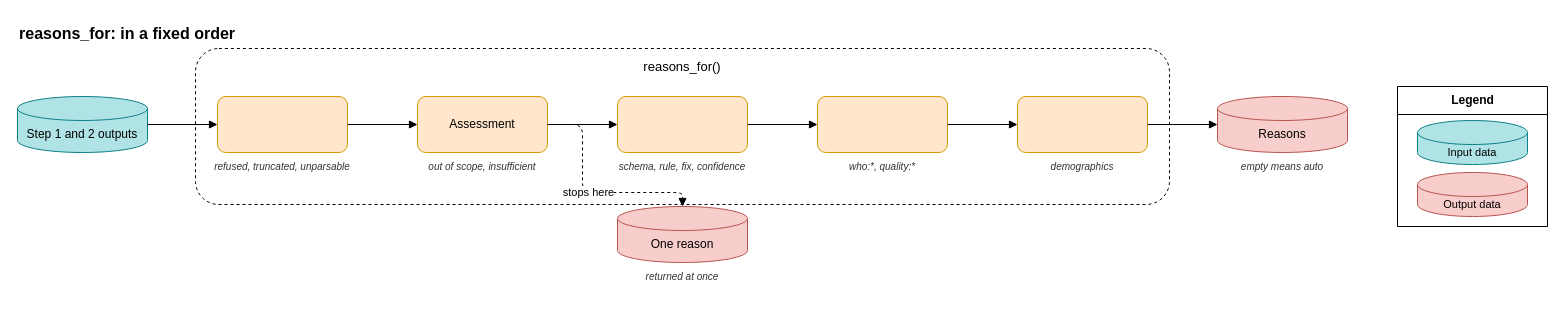
Some shapes in this 1565 by 311 pixel diagram are drawn without their labels. The shapes that lost their labels are listed below. From the top down, each one's box as (x1, y1, x2, y2) in pixels, then its label:
(216, 96, 348, 152): Model status
(616, 96, 748, 152): Rules and fixes
(816, 96, 948, 152): WHO tools
(1016, 96, 1148, 152): Record
